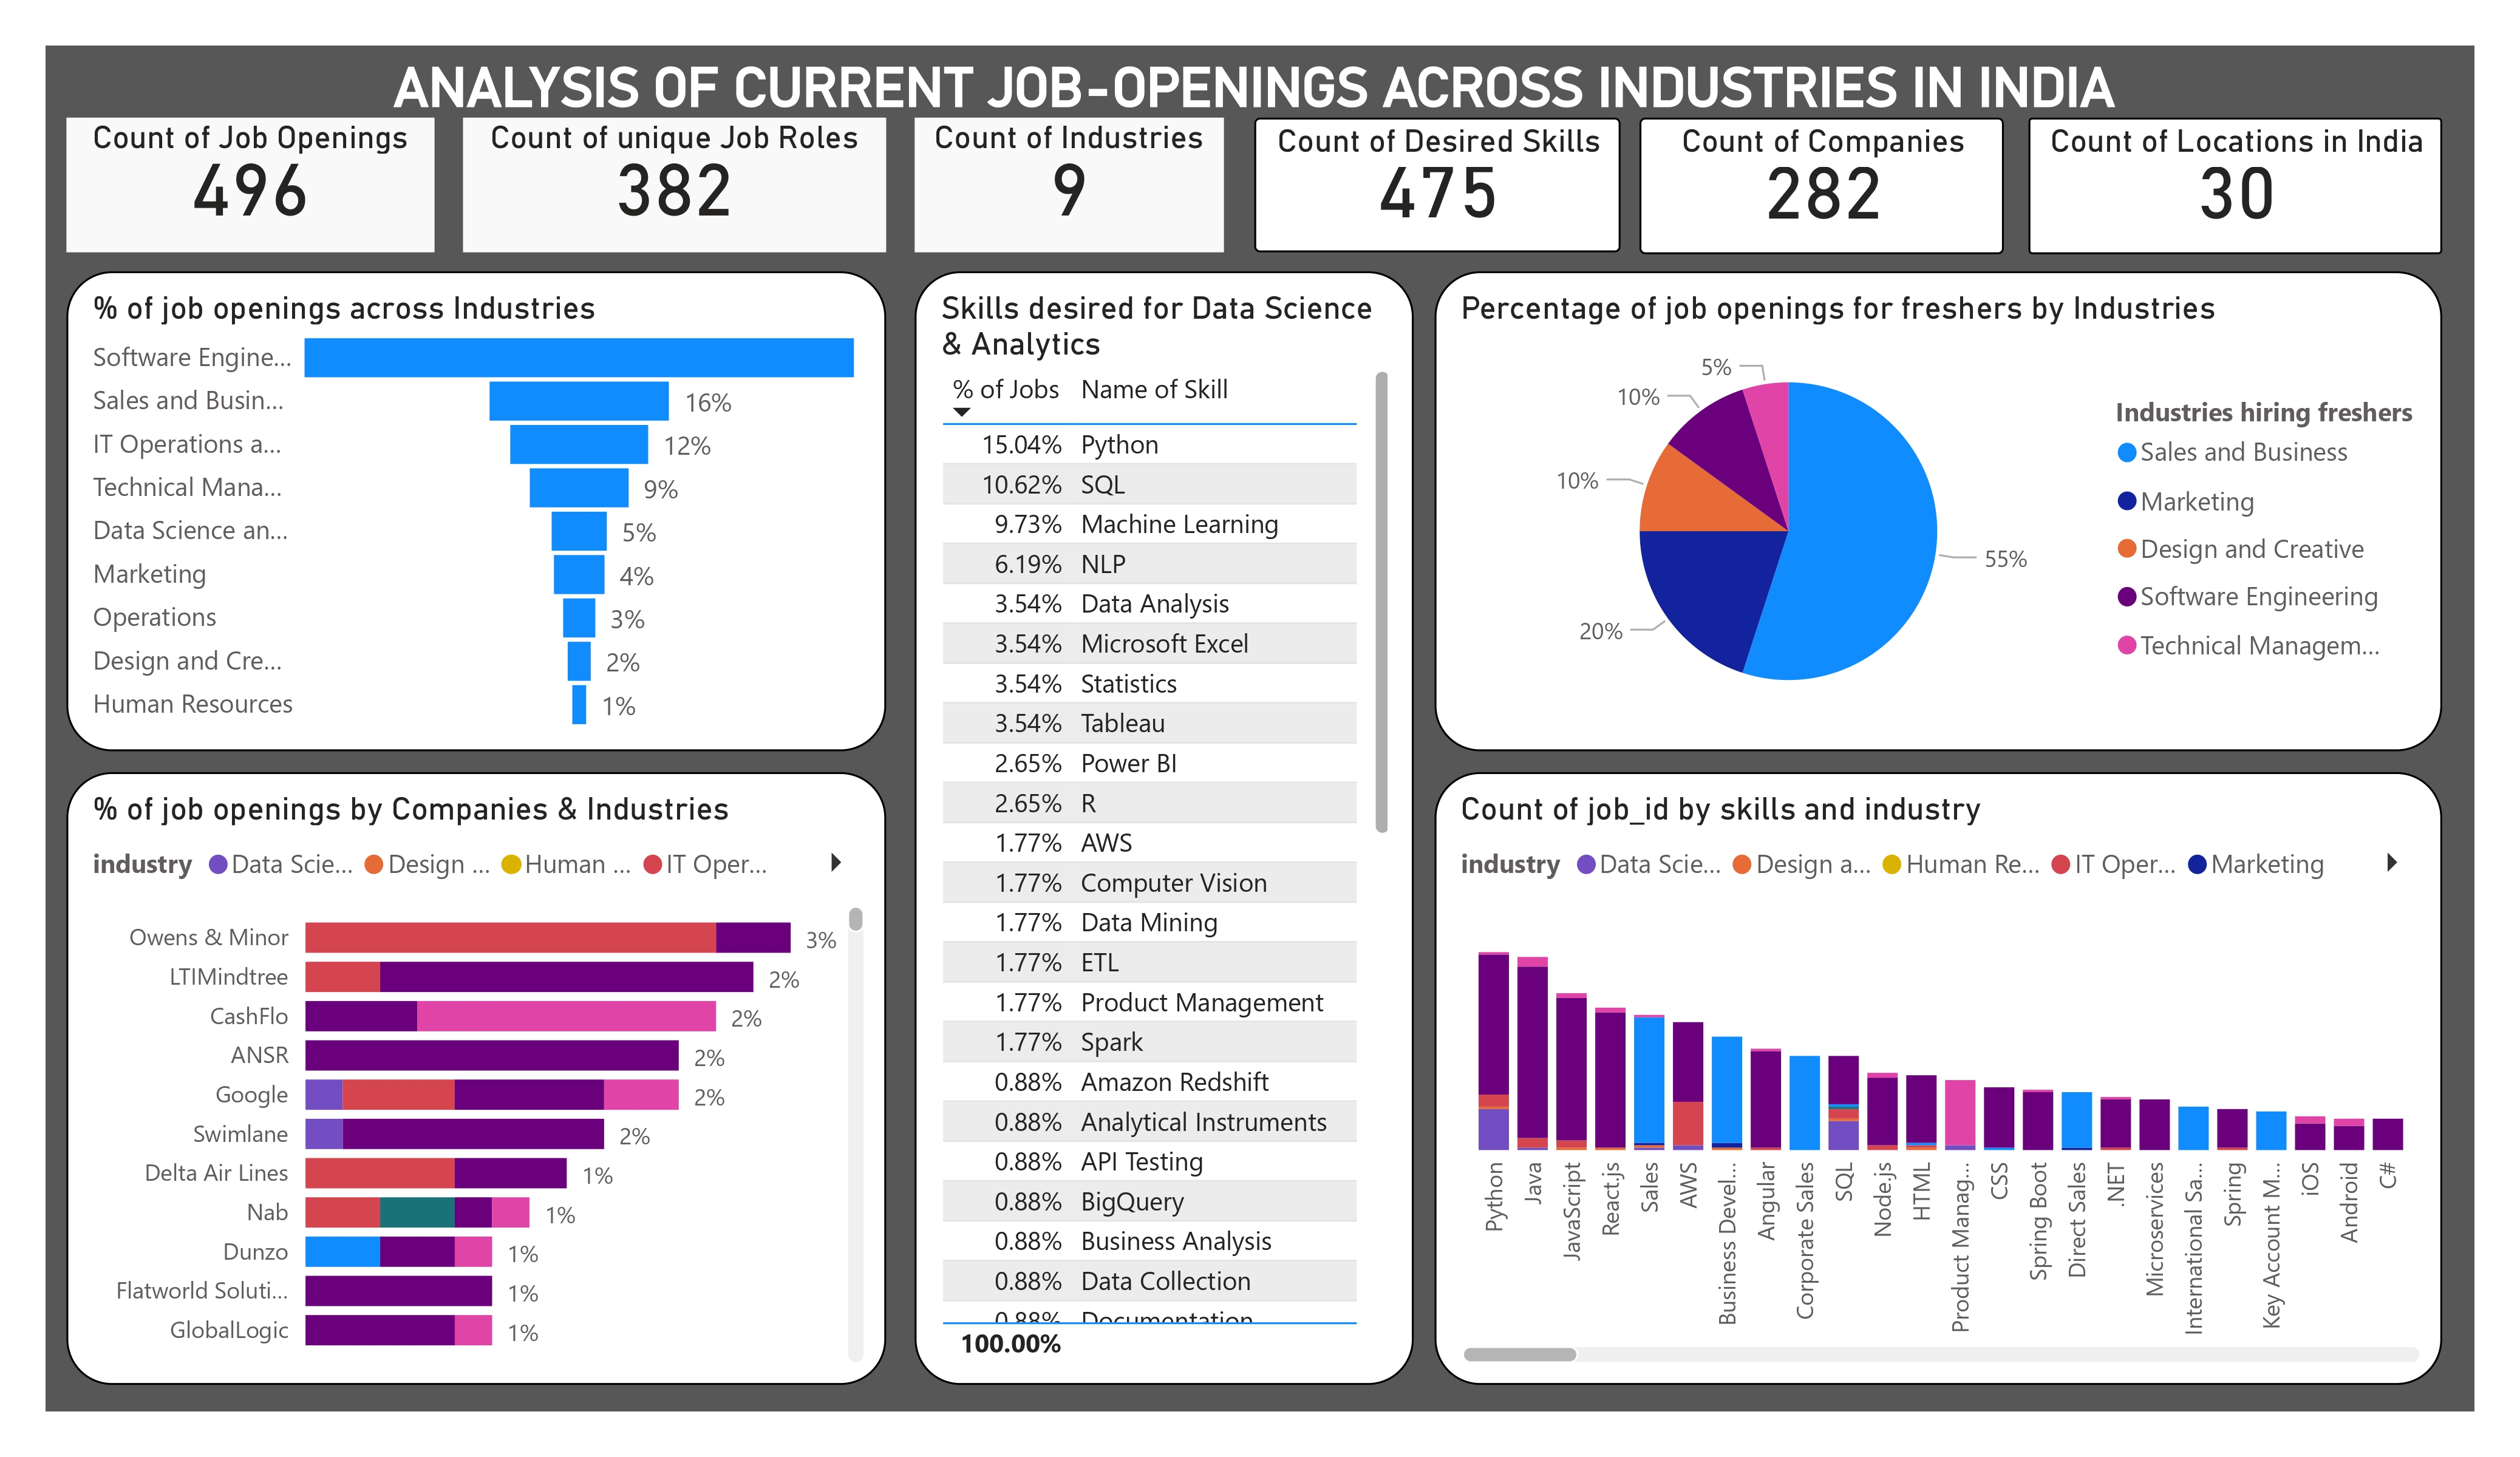

The dashboard page shown, as its layout file describes it:
{"tool":"powerbi","page":{"name":"Jobs","canvas":[1280,720],"ordinal":0},"visuals":[{"type":"barChart","title":"% of job openings by Companies & Industries","fields":{"Category":["jobs.company_name"],"Y":["CountNonNull(jobs.job_id)"],"Series":["jobs.industry"]},"box":[11,382.5,431.9,323.6],"z":0},{"type":"lineStackedColumnComboChart","fields":{"Category":["skills.skills"],"Y":["CountNonNull(skills.job_id)"],"Series":["jobs.industry"]},"box":[732.1,382.5,530.6,323.6],"z":1000},{"type":"pieChart","title":"Percentage of job openings for freshers by Industries","fields":{"Category":["jobs.industry"],"Series":["jobs.experience_req"],"Y":["CountNonNull(jobs.job_id)"]},"box":[732.1,119.3,530.6,252.3],"z":2000},{"type":"funnel","title":"% of job openings across Industries","fields":{"Category":["jobs.industry"],"Y":["CountNonNull(jobs.job_id)"]},"box":[11,119.3,431.9,252.3],"z":3000},{"type":"tableEx","title":"Skills desired for Data Science & Analytics","fields":{"Values":["CountNonNull(skills.skills)","skills.skills"]},"box":[457.9,119.3,263.2,586.8],"z":4000},{"type":"textbox","box":[11,0,1251.8,48],"z":5000},{"type":"card","title":"Count of Companies","fields":{"Values":["Count(companies.company_name)"]},"box":[840.5,38.4,191.9,71.3],"z":6000},{"type":"card","title":"Count of Job Openings","fields":{"Values":["Count(jobs.job_id)"]},"box":[11.3,38.1,193.8,71.1],"z":7000},{"type":"card","title":"Count of Desired Skills","fields":{"Values":["Count(skills.skills)"]},"box":[637.1,38.1,192.8,71.1],"z":8000},{"type":"card","title":"Count of Locations in India","fields":{"Values":["Count(locations.location)"]},"box":[1044.7,38.4,218,71.3],"z":9000},{"type":"card","title":"Count of Industries","fields":{"Values":["Count(jobs.industry)"]},"box":[457.7,38.1,162.9,71.1],"z":10000},{"type":"card","title":"Count of unique Job Roles","fields":{"Values":["Count(jobs.designation)"]},"box":[219.6,38.1,223.7,71.1],"z":11000}]}

Visuals, with their boxes in screenshot pixels (x1, y1, x2, y2):
"% of job openings by Companies & Industries" barChart: 66/771/886/1385
lineStackedColumnComboChart - skills.skills x CountNonNull(skills.job_id): 1435/771/2442/1385
"Percentage of job openings for freshers by Industries" pieChart: 1435/272/2442/750
"% of job openings across Industries" funnel: 66/272/886/750
"Skills desired for Data Science & Analytics" tableEx: 914/272/1414/1385
textbox: 66/46/2442/137
"Count of Companies" card: 1641/118/2004/254
"Count of Job Openings" card: 67/118/435/253
"Count of Desired Skills" card: 1255/118/1620/253
"Count of Locations in India" card: 2028/118/2442/254
"Count of Industries" card: 914/118/1223/253
"Count of unique Job Roles" card: 462/118/887/253
